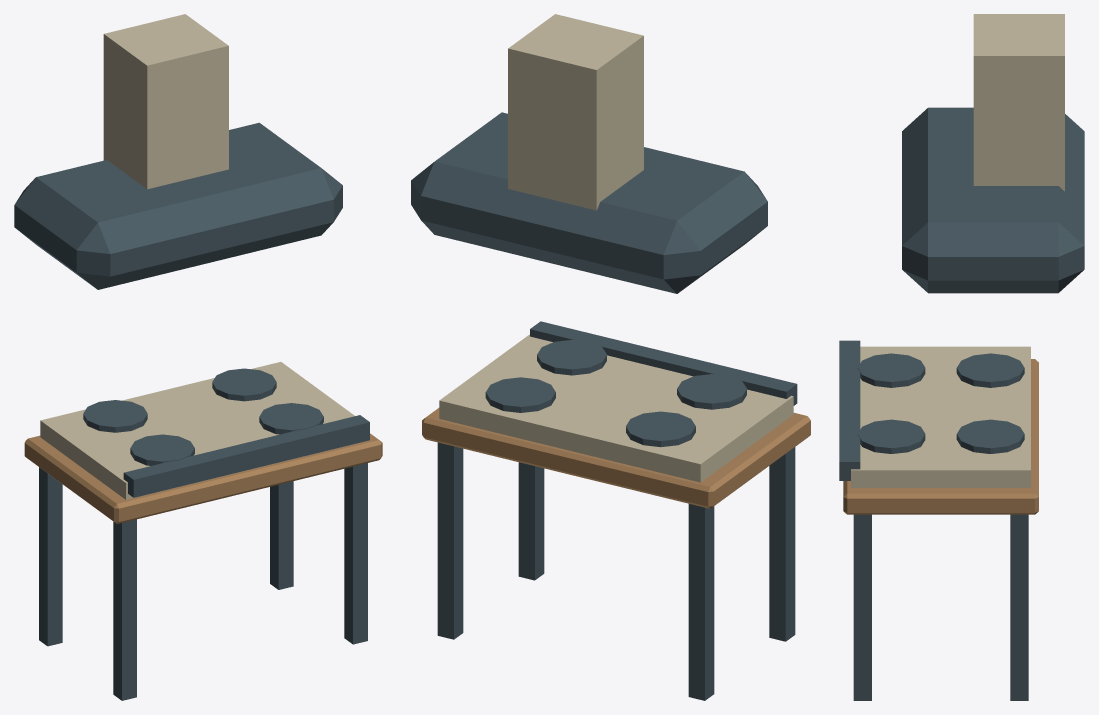
The model's file is range_station.glb.
3 views of the same model, side by side, from view 1: azimuth 30°, elevation 25°; view 2: azimuth 150°, elevation 25°; view 3: azimuth 270°, elevation 25° (orthographic). The views are drawn at different scales.
Parts seen in each view (by area): view 1: range_station; view 2: range_station; view 3: range_station.
Part boxes in pixels (x1,y1,x2,y2): range_station: [14, 14, 382, 700]; range_station: [411, 14, 810, 700]; range_station: [839, 14, 1084, 700].
Size of the model in its own units: 1.25 by 2.55 by 0.94.
